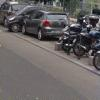Motorcycle: (58, 22, 100, 63)
